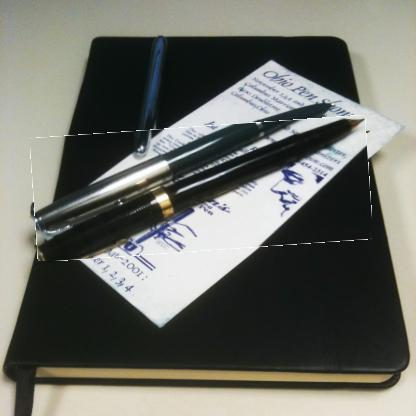Pen: (32, 121, 372, 257)
